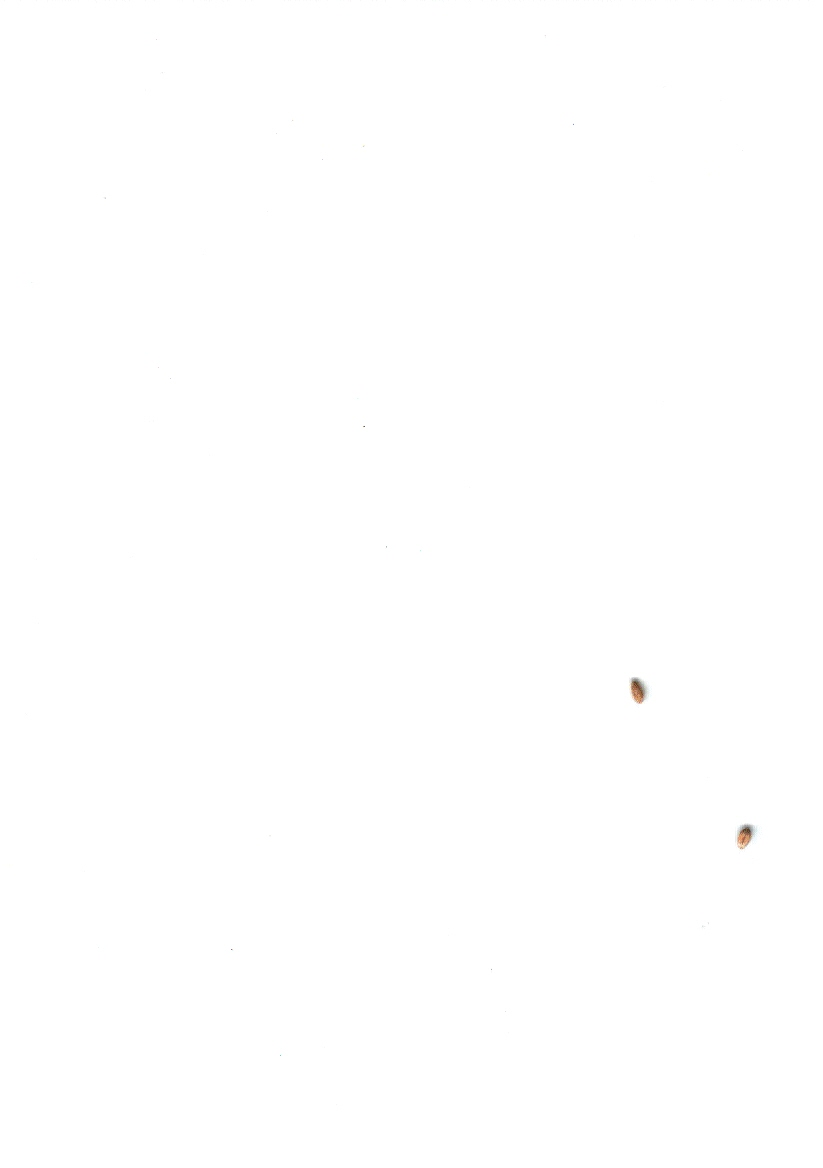grains: (725, 821, 763, 864), (620, 672, 657, 715)
